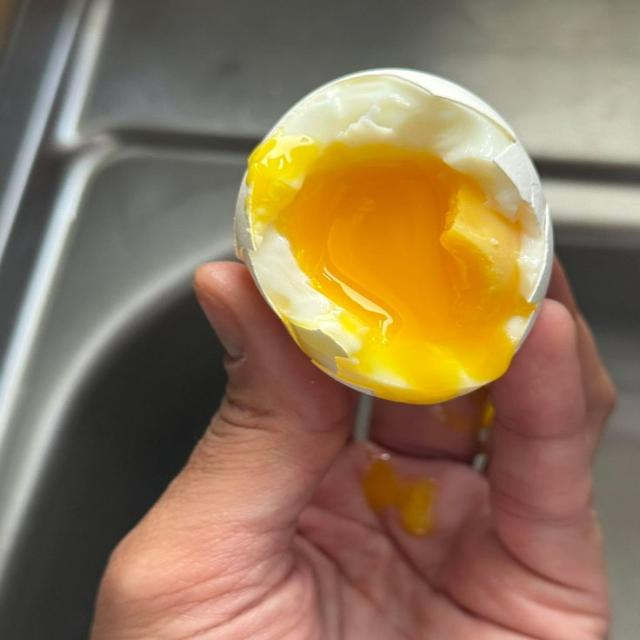egg boiled: (236, 70, 551, 403)
